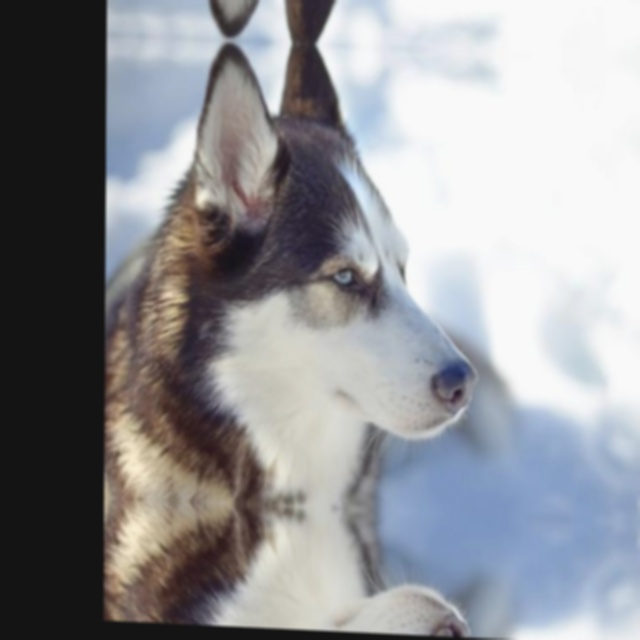dog: (104, 37, 476, 512), (104, 499, 474, 638), (107, 0, 477, 47)
